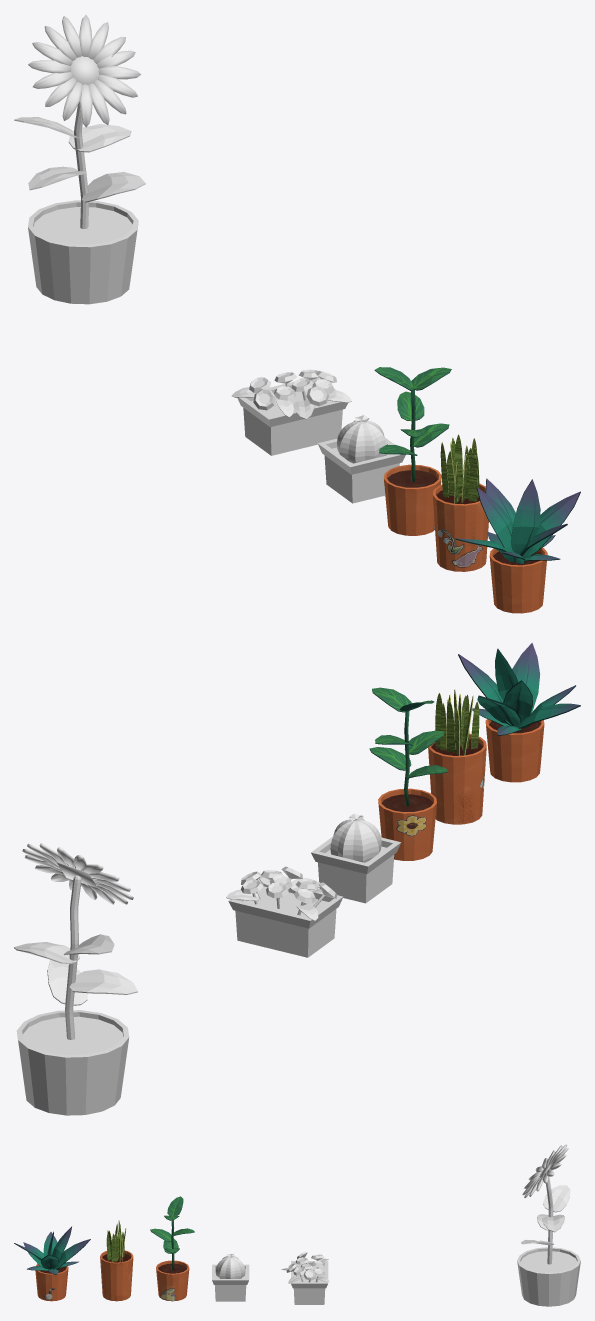
Rendered from plants3.fbx.
The picture shows the model from 3 angles, top to bottom: view 1: azimuth 30°, elevation 25°; view 2: azimuth 150°, elevation 25°; view 3: azimuth 270°, elevation 25°; orthographic projection. The views are drawn at different scales.
Visible parts, largest first — view 1: Prop_Homeplant_08, Prop_Homeplant_01, Prop_Homeplant_06, Prop_Homeplant_02, Prop_Homeplant_03, Prop_Homeplant_04; view 2: Prop_Homeplant_08, Prop_Homeplant_01, Prop_Homeplant_06, Prop_Homeplant_02, Prop_Homeplant_03, Prop_Homeplant_04; view 3: Prop_Homeplant_08, Prop_Homeplant_01, Prop_Homeplant_02, Prop_Homeplant_03, Prop_Homeplant_06, Prop_Homeplant_04.
Boxes of the visible parts, bbox=[...] form: Prop_Homeplant_08: bbox=[14, 15, 145, 304]; Prop_Homeplant_01: bbox=[455, 478, 580, 613]; Prop_Homeplant_06: bbox=[231, 369, 351, 455]; Prop_Homeplant_02: bbox=[374, 367, 451, 535]; Prop_Homeplant_03: bbox=[432, 434, 488, 571]; Prop_Homeplant_04: bbox=[317, 415, 405, 503]; Prop_Homeplant_08: bbox=[14, 843, 137, 1115]; Prop_Homeplant_01: bbox=[458, 643, 580, 782]; Prop_Homeplant_06: bbox=[226, 866, 343, 957]; Prop_Homeplant_02: bbox=[369, 687, 447, 860]; Prop_Homeplant_03: bbox=[428, 689, 486, 824]; Prop_Homeplant_04: bbox=[311, 813, 401, 903]; Prop_Homeplant_08: bbox=[517, 1144, 580, 1306]; Prop_Homeplant_01: bbox=[14, 1226, 90, 1301]; Prop_Homeplant_02: bbox=[150, 1196, 194, 1301]; Prop_Homeplant_03: bbox=[100, 1220, 133, 1301]; Prop_Homeplant_06: bbox=[281, 1251, 329, 1304]; Prop_Homeplant_04: bbox=[212, 1254, 249, 1301].
Size of the model in its own units: 50.94 by 101 by 355.
3 materials, 3 textured.
